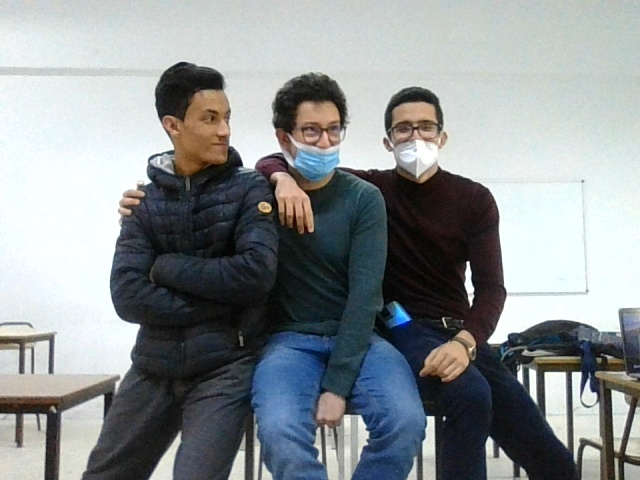mask_weared_incorrect: (377, 77, 471, 190), (271, 75, 344, 183)
without_mask: (135, 60, 259, 183)
